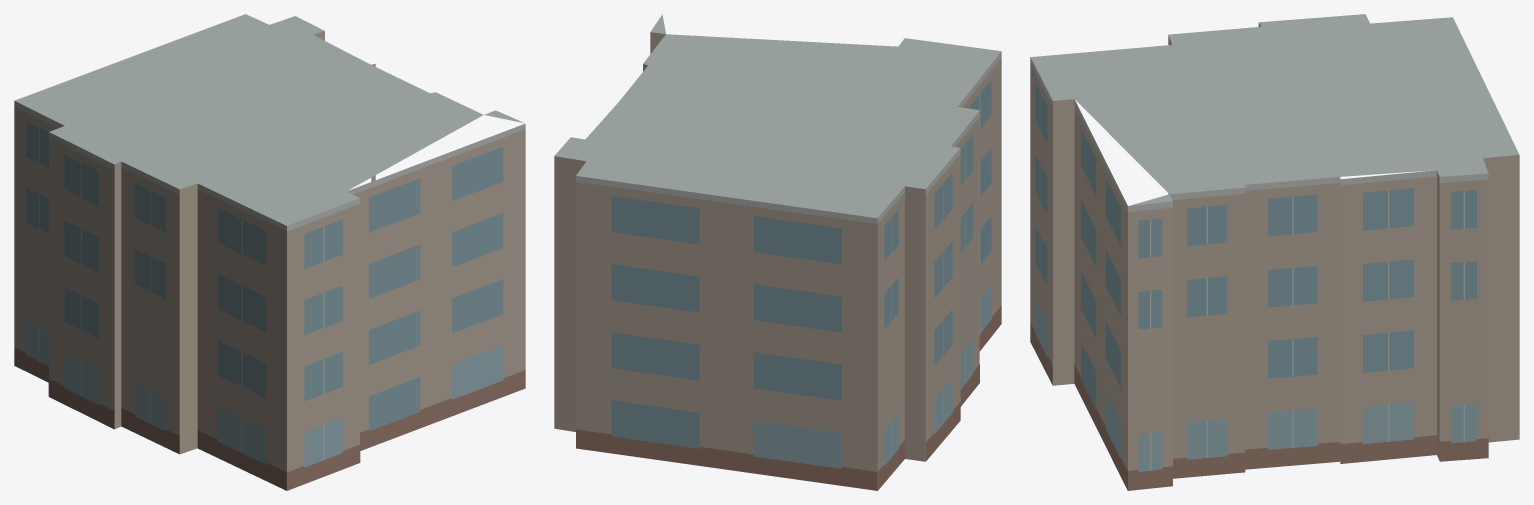
Rendered from survey-upis-32582932.glb.
3 renders of one model, left to right at view 1: azimuth 30°, elevation 25°; view 2: azimuth 150°, elevation 25°; view 3: azimuth 270°, elevation 25°, orthographic. The views are drawn at different scales.
Visible parts, largest first — view 1: survey-upis-32582932.tmp; view 2: survey-upis-32582932.tmp; view 3: survey-upis-32582932.tmp.
Boxes of the visible parts, x1,y1,x2,y2 form: survey-upis-32582932.tmp: [14, 14, 525, 490]; survey-upis-32582932.tmp: [554, 14, 1001, 490]; survey-upis-32582932.tmp: [1030, 14, 1519, 490].
Bounding box in the file's own units: 16.43 × 11.35 × 17.68.
